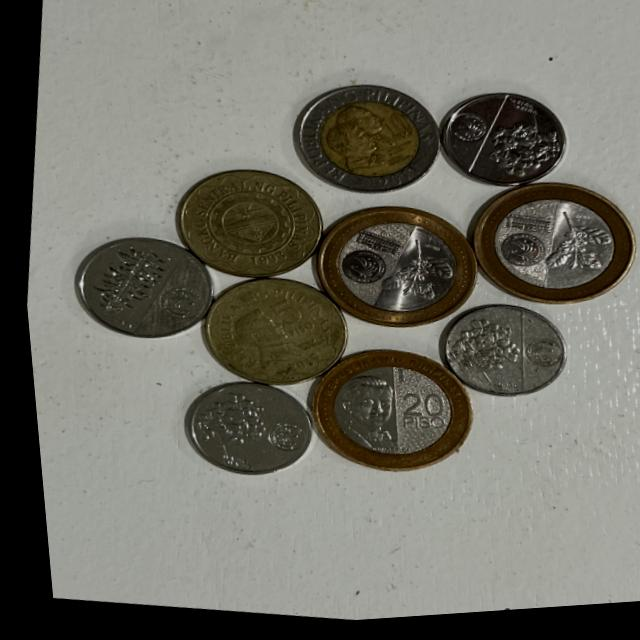10_Old_Front: (359, 109, 419, 158)
1_New_Back: (175, 382, 262, 473), (431, 318, 521, 400), (480, 119, 566, 195)
20_New_Back: (366, 230, 458, 323), (530, 212, 611, 296)
20_New_Front: (384, 394, 442, 442)
5_New_Back: (80, 236, 170, 328)
5_Old_Back: (165, 159, 326, 294)
5_Old_Front: (248, 289, 320, 349)
